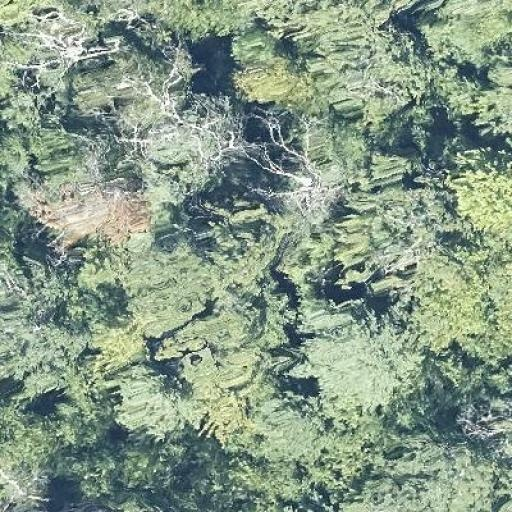tree-top: (75, 29, 213, 134), (296, 298, 421, 412), (330, 158, 451, 273), (0, 264, 107, 390), (313, 26, 427, 127), (415, 252, 512, 366), (146, 89, 254, 189), (373, 438, 506, 512), (34, 176, 155, 254), (117, 243, 211, 335), (190, 350, 275, 442), (0, 128, 102, 204), (0, 399, 67, 511), (202, 200, 288, 286), (0, 36, 72, 128), (210, 284, 290, 365), (448, 146, 511, 241), (252, 396, 328, 468), (260, 0, 400, 39), (443, 65, 512, 139), (139, 0, 260, 42), (419, 9, 508, 65), (120, 366, 190, 433), (228, 454, 308, 512), (233, 60, 315, 104), (114, 438, 180, 489)
